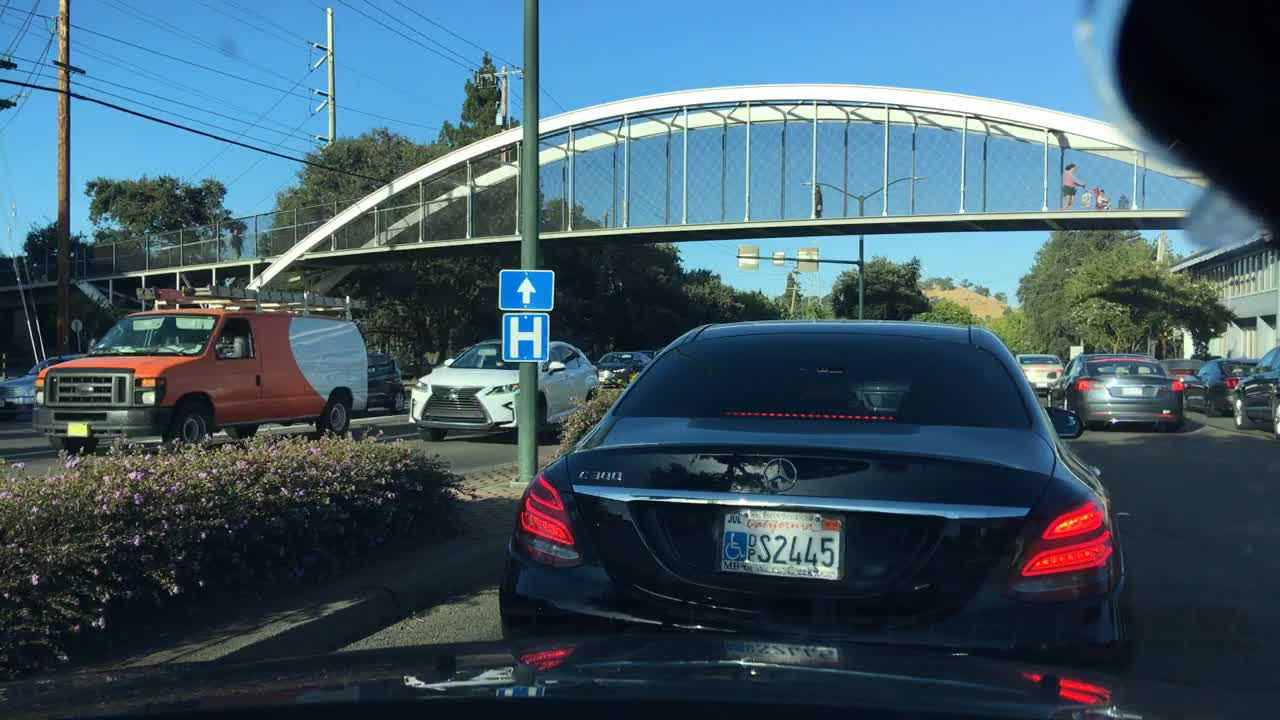car: (497, 319, 1122, 681), (32, 290, 368, 468), (408, 338, 598, 442), (1045, 351, 1182, 431), (0, 349, 85, 418), (1180, 356, 1262, 417), (1229, 345, 1278, 434), (366, 350, 405, 412), (593, 350, 651, 387), (1015, 353, 1062, 395), (1159, 355, 1208, 386), (1082, 183, 1112, 211), (639, 349, 660, 357)
person: (1060, 161, 1084, 209), (227, 227, 244, 260), (813, 183, 822, 219), (1095, 189, 1107, 202)
traffic sign: (497, 267, 554, 311), (502, 311, 549, 362), (796, 247, 818, 271), (738, 245, 758, 267), (1068, 344, 1083, 362), (135, 287, 155, 299), (69, 317, 82, 330), (771, 251, 783, 265)
